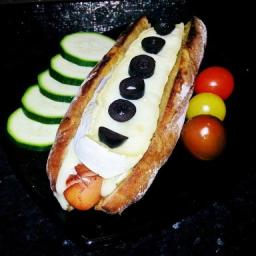hotdog: (66, 164, 110, 220)
